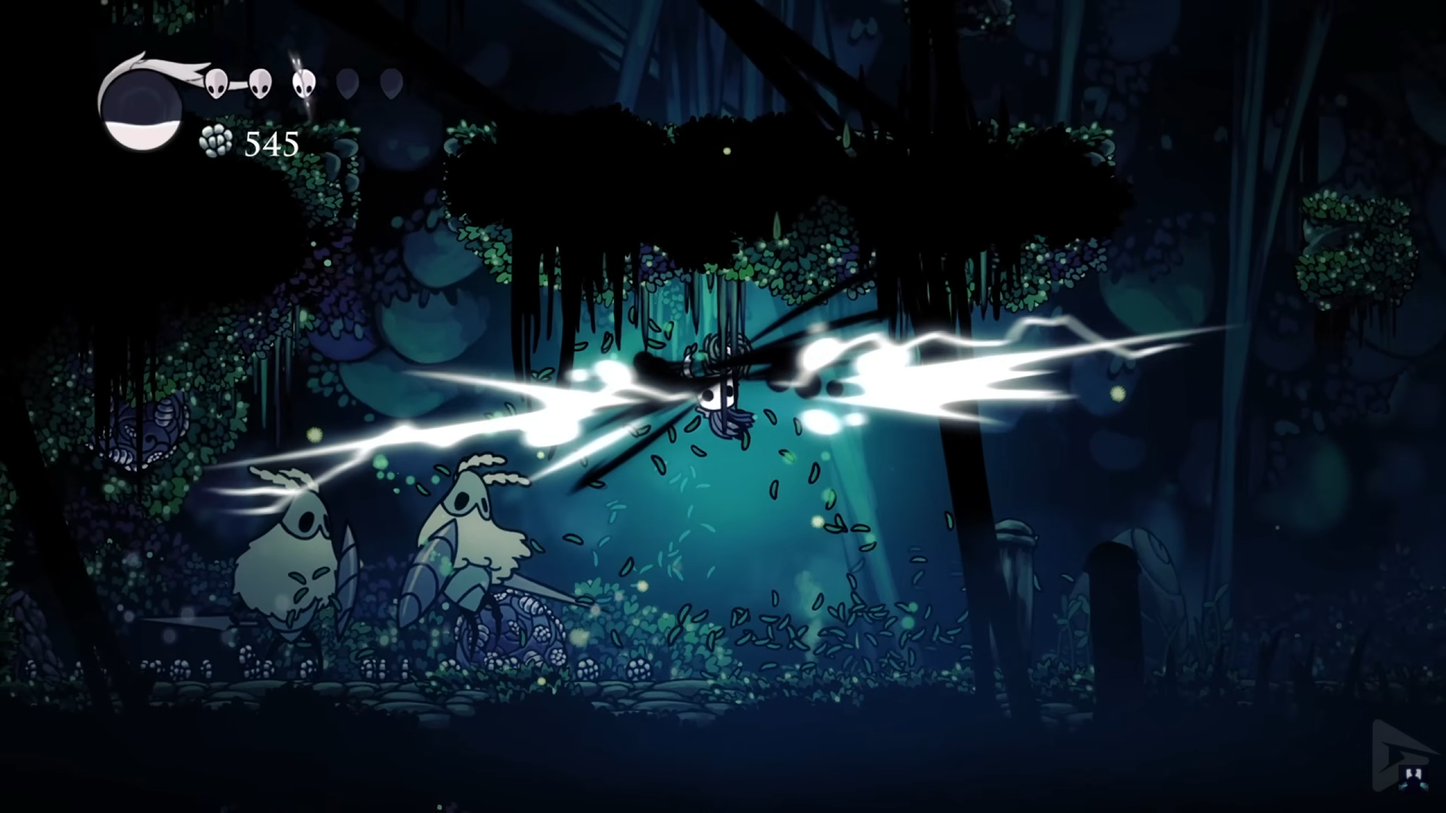HK: (684, 343, 762, 450)
